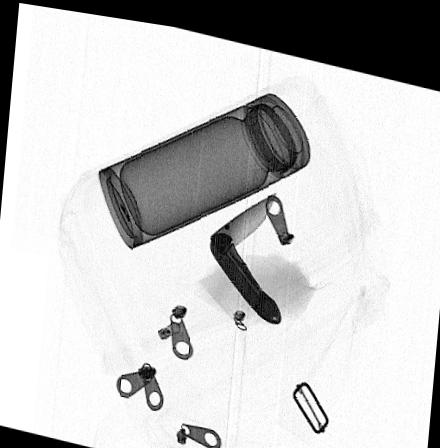Knife: (209, 181, 284, 319)
